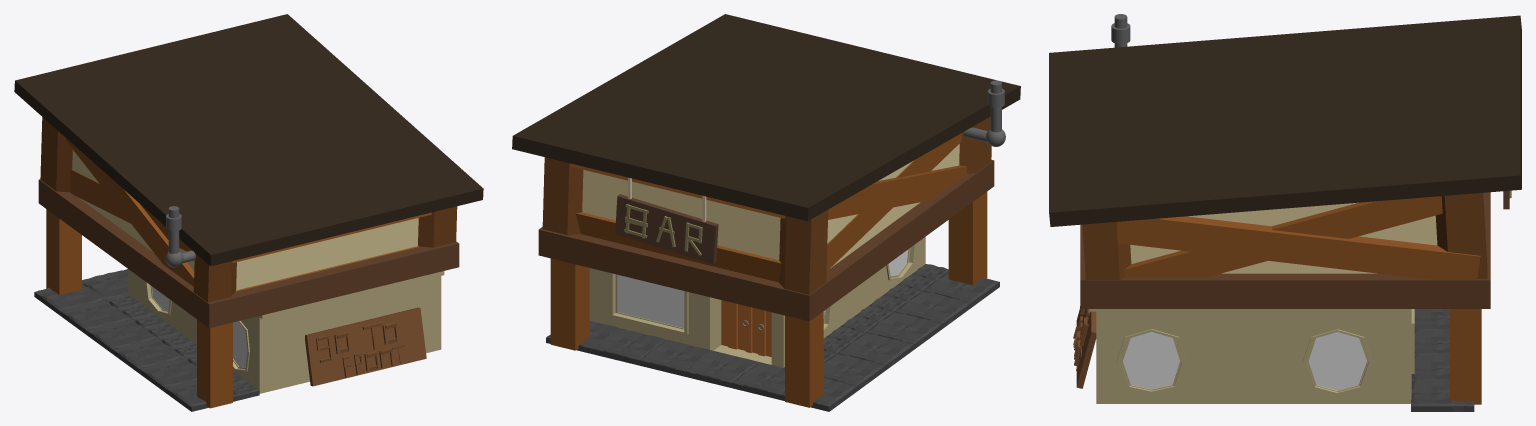
The model's file is bar_project.fbx.
The picture shows the model from 3 angles, left to right: view 1: azimuth 30°, elevation 25°; view 2: azimuth 150°, elevation 25°; view 3: azimuth 270°, elevation 25°; orthographic projection. The views are drawn at different scales.
Visible parts, largest first — view 1: tegels_LOD0; view 2: tegels_LOD0; view 3: tegels_LOD0.
Part boxes in pixels (box(x1,y1,x2,y2)): tegels_LOD0: box(14, 14, 483, 411); tegels_LOD0: box(512, 14, 1020, 411); tegels_LOD0: box(1049, 14, 1521, 411).
Size of what is drawn, in the model's own units: 2530 by 1709 by 2997.
